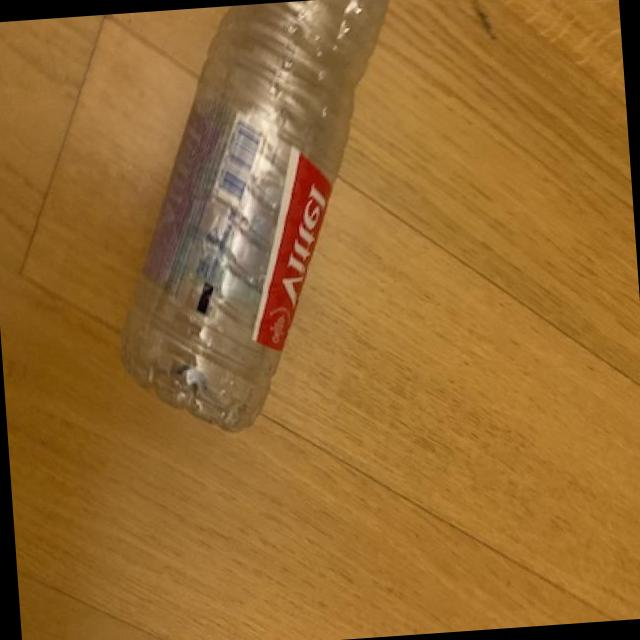plastic_bottle: (94, 0, 421, 441)
